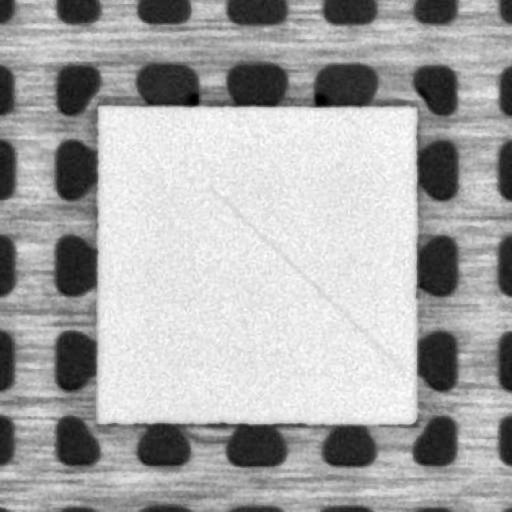DIE_CRACK: (208, 186, 400, 368)
